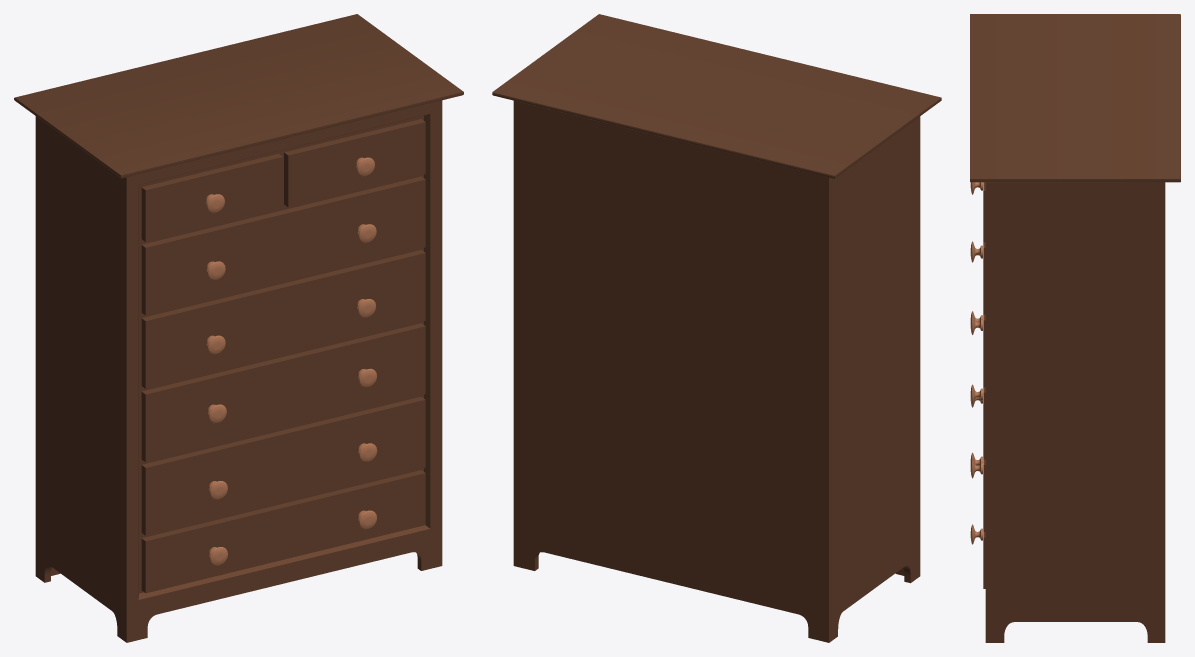
Rendered from dresserFinal.fbx.
The picture shows the model from 3 angles, left to right: view 1: azimuth 30°, elevation 25°; view 2: azimuth 150°, elevation 25°; view 3: azimuth 270°, elevation 25°; orthographic projection.
Visible parts, largest first — view 1: Dresser; view 2: Dresser; view 3: Dresser.
Part boxes in pixels (x1=…): Dresser: x1=14, y1=14, x2=463, y2=642; Dresser: x1=492, y1=14, x2=941, y2=642; Dresser: x1=970, y1=14, x2=1180, y2=642.
Bounding box in the file's own units: 32.6 × 43.3 × 17.6.
